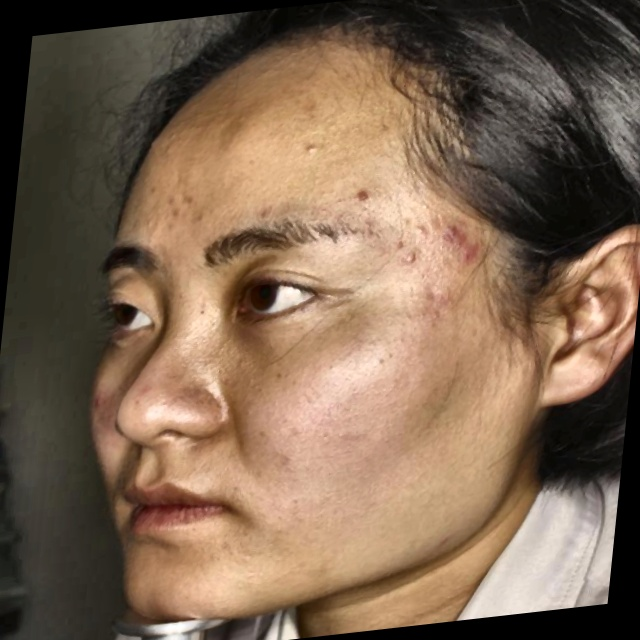comedone: (164, 187, 195, 221), (457, 235, 486, 268), (445, 213, 472, 239)
